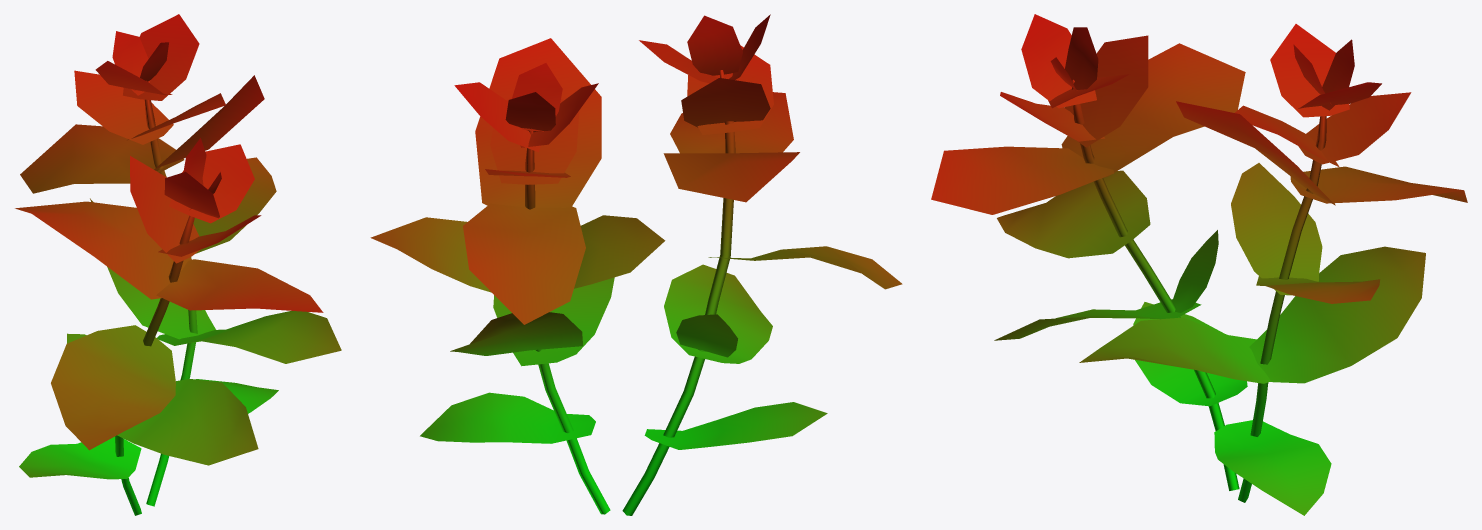
File: Rubber Bush_LOD4_Var7_xffhfekia.fbx
3 renders of one model, left to right at view 1: azimuth 30°, elevation 25°; view 2: azimuth 150°, elevation 25°; view 3: azimuth 270°, elevation 25°, orthographic. The views are drawn at different scales.
Parts seen in each view (by area): view 1: _5z10_Var7_LOD4; view 2: _5z10_Var7_LOD4; view 3: _5z10_Var7_LOD4.
Boxes of the visible parts, x1=… form: _5z10_Var7_LOD4: x1=15, y1=14, x2=341, y2=515; _5z10_Var7_LOD4: x1=370, y1=14, x2=902, y2=515; _5z10_Var7_LOD4: x1=931, y1=14, x2=1467, y2=515.
Size of the model in its own units: 34.92 by 43 by 44.07.
